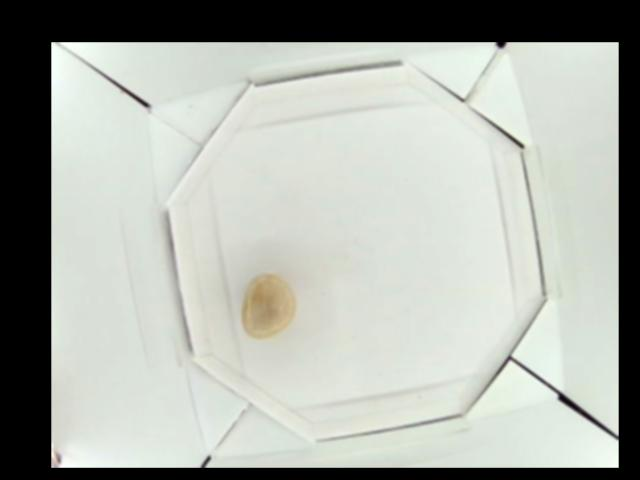Pebble: (241, 273, 295, 342)
